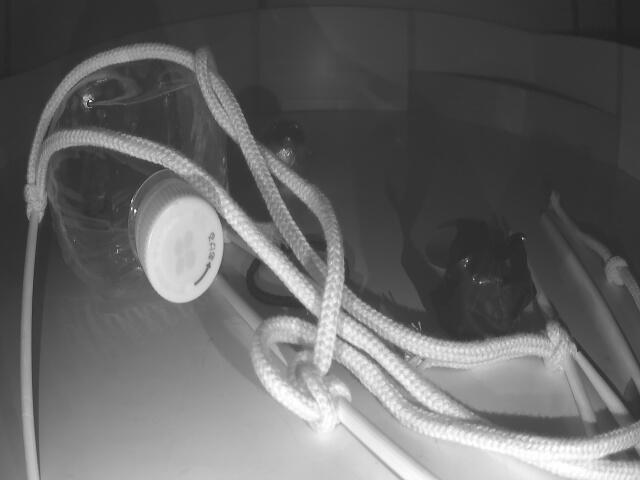Dead: (432, 219, 533, 340)
Live: (255, 118, 313, 180)
Point: (410, 70, 614, 161)
